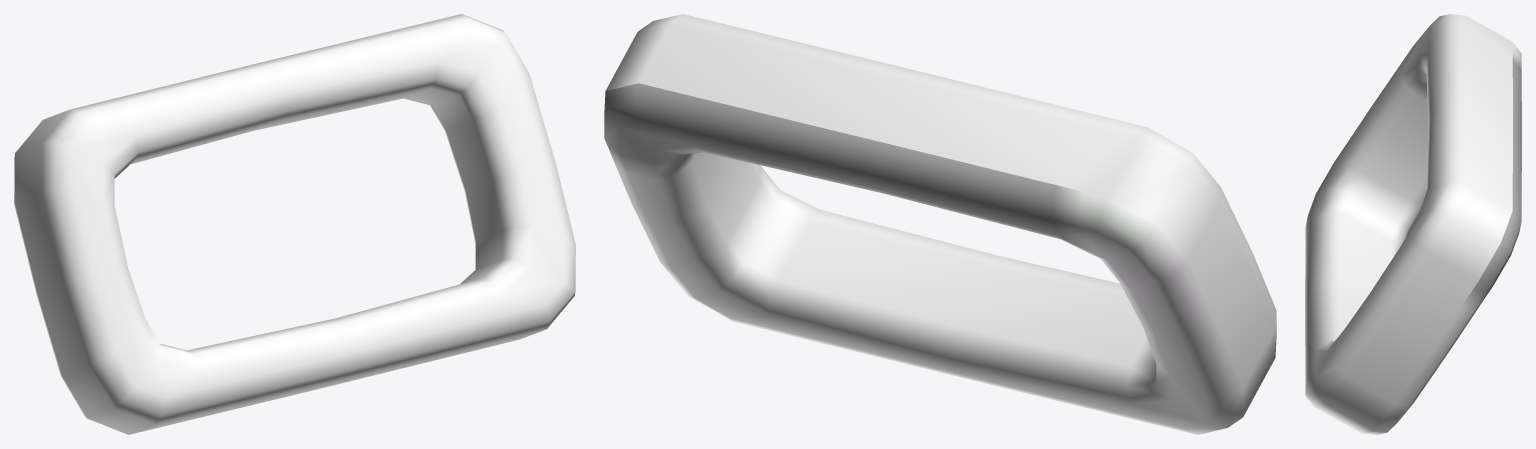
Rendered from P_CHAIN.fbx.
3 views of the same model, side by side, from view 1: azimuth 30°, elevation 25°; view 2: azimuth 150°, elevation 25°; view 3: azimuth 270°, elevation 25° (orthographic). The views are drawn at different scales.
Parts seen in each view (by area): view 1: CHAIN; view 2: CHAIN; view 3: CHAIN.
Boxes of the visible parts, <box> form: CHAIN: <box>14,14,575,434</box>; CHAIN: <box>604,14,1276,434</box>; CHAIN: <box>1305,14,1521,434</box>.
Size of the model in its own units: 13.76 by 7.72 by 5.97.
1 material, 1 textured.
